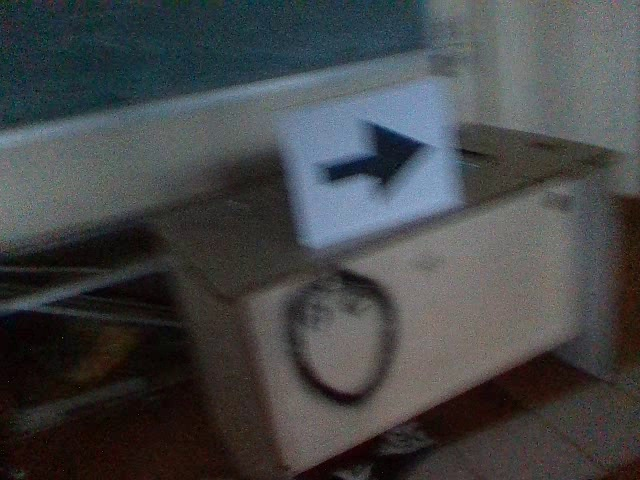Right: (313, 117, 434, 206)
